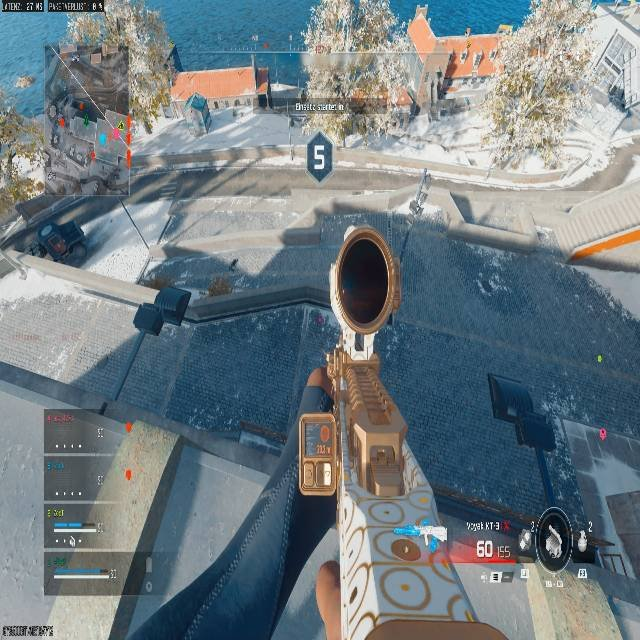player: (408, 171, 434, 215)
